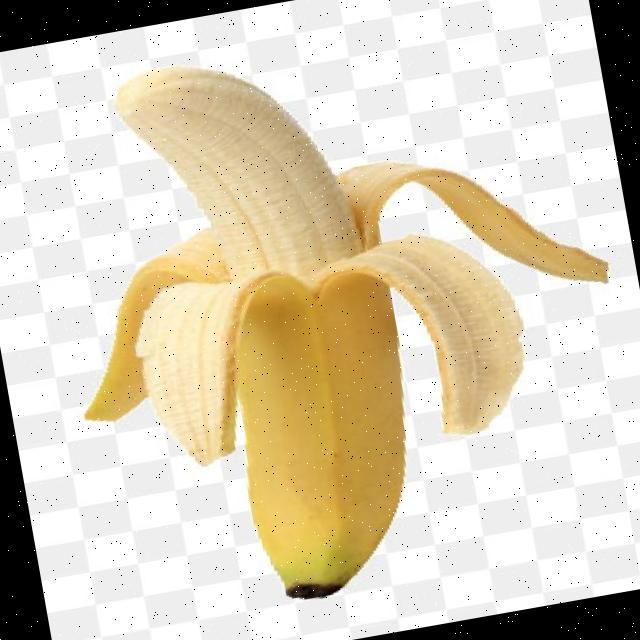banana-peel: (25, 0, 640, 632)
